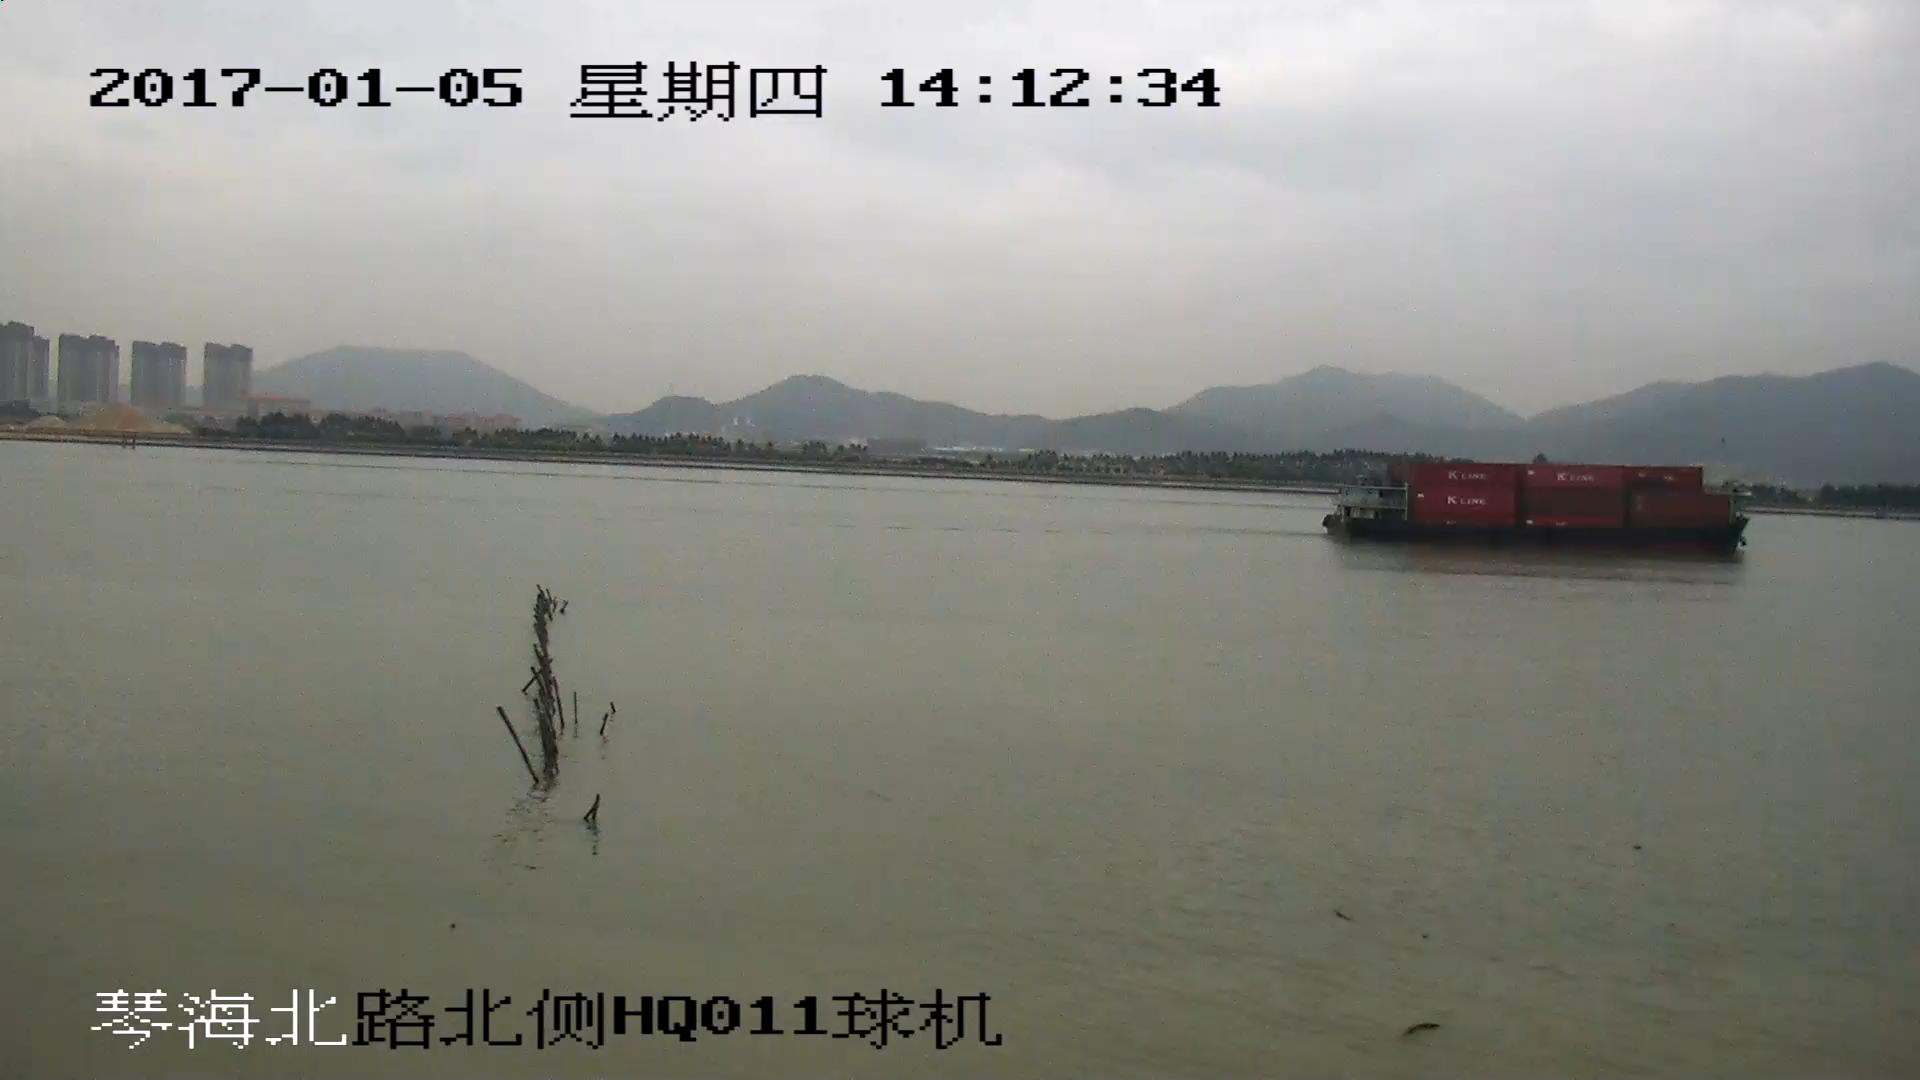container ship: (1325, 452, 1749, 550)
